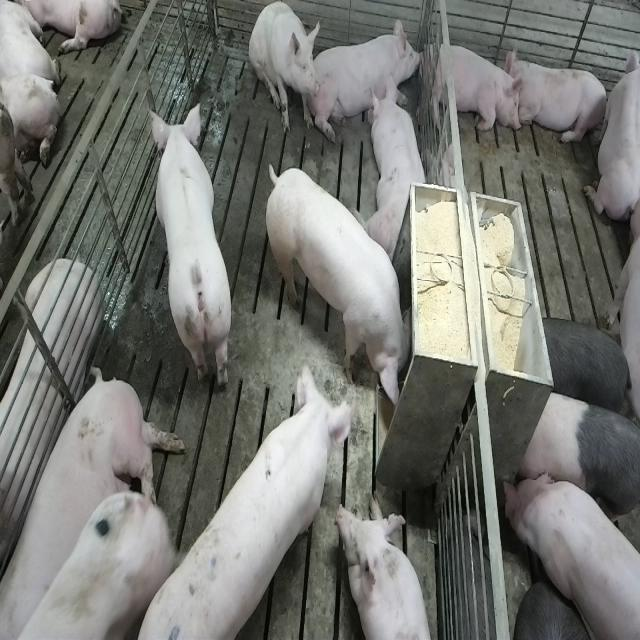Feeding: (270, 163, 420, 413)
Lateral_lying: (0, 258, 102, 577)
Sitting: (249, 3, 319, 136)
Standing: (133, 355, 360, 637), (5, 398, 184, 640), (150, 106, 233, 398), (502, 467, 639, 640), (514, 389, 638, 560), (535, 315, 636, 424)
Sternal_lying: (338, 496, 437, 640), (314, 12, 424, 139), (368, 78, 430, 258), (584, 38, 637, 225), (509, 51, 609, 149), (424, 37, 522, 137)
